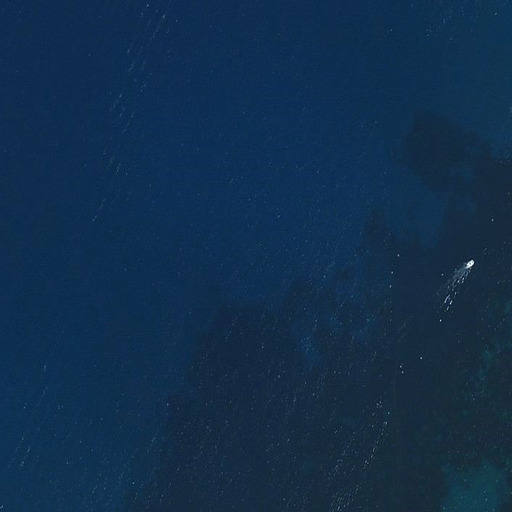ship: (463, 257, 476, 272)
